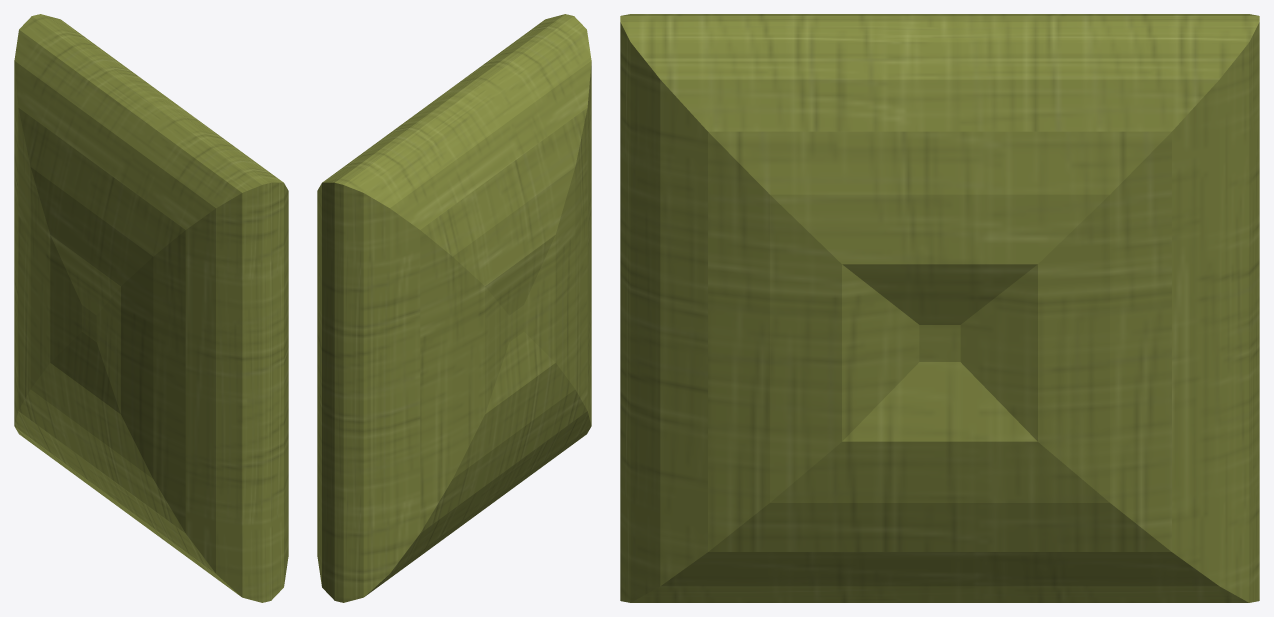
Rendered from Kissen.fbx.
The picture shows the model from 3 angles, left to right: view 1: azimuth 30°, elevation 25°; view 2: azimuth 150°, elevation 25°; view 3: azimuth 270°, elevation 25°; orthographic projection. The views are drawn at different scales.
Visible parts, largest first — view 1: Cube; view 2: Cube; view 3: Cube.
Part boxes in pixels (x1,y1,x2,y2): Cube: [14, 14, 288, 602]; Cube: [317, 14, 591, 602]; Cube: [620, 14, 1259, 602].
Size of the model in its own units: 66 by 200 by 200.
